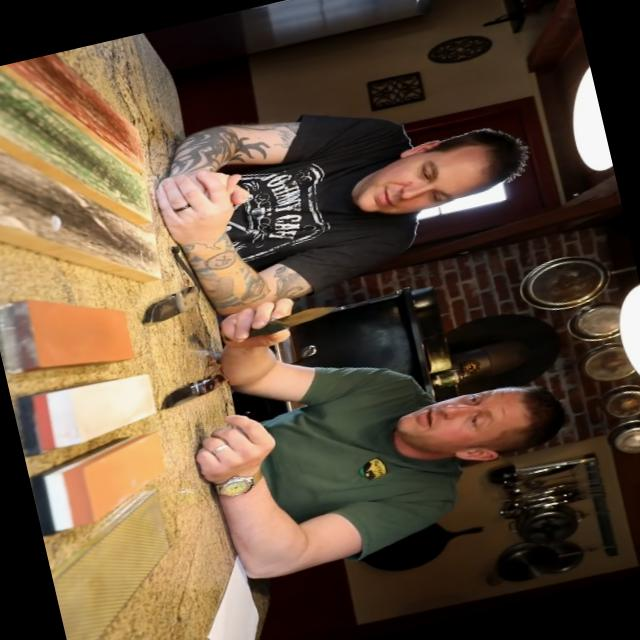knife: (238, 279, 358, 351)
